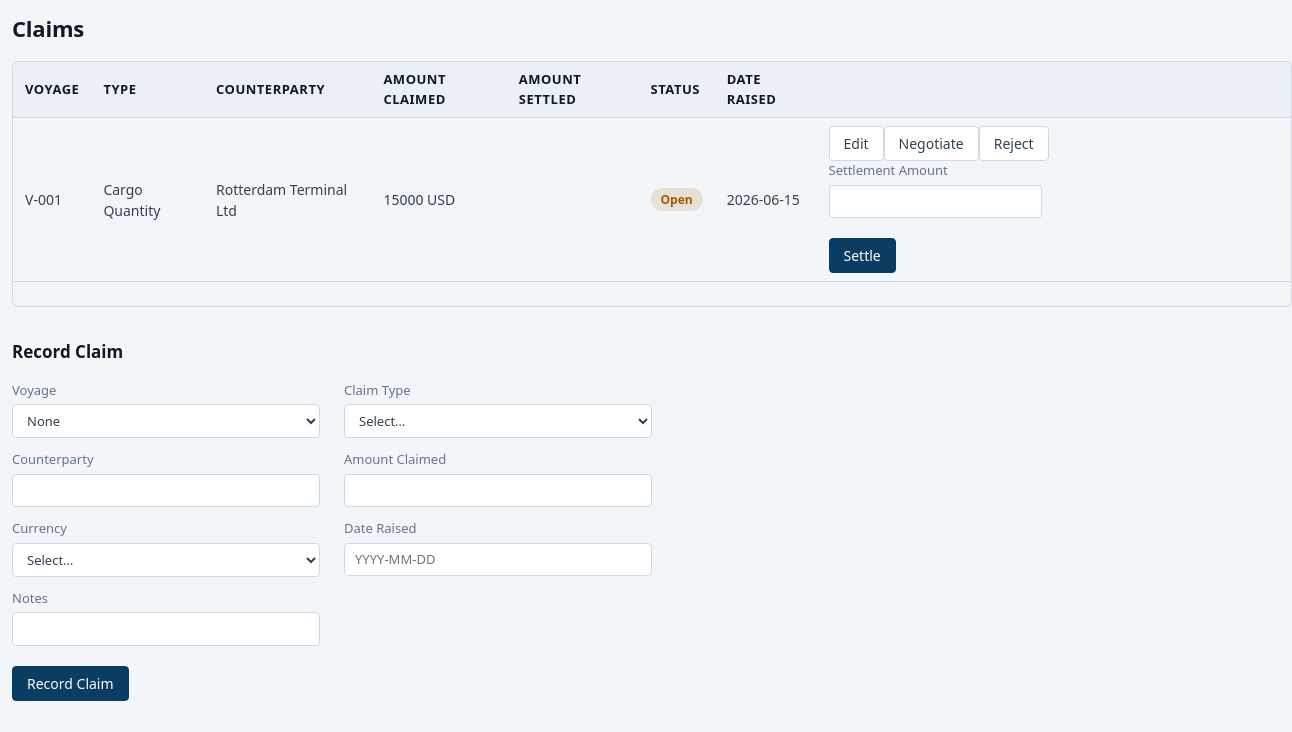
ClaimsPage › lets the operator settle a claim with a settled amount
The width and height of the screenshot is (1292, 732).
Expected: the text "Rotterdam Terminal Ltd" is shown, top-left (204, 118), bottom-right (371, 282)
Step 1. Type "12000" into the number field labelled "Settlement Amount" → [935, 201], box top-left (828, 184), bottom-right (1042, 218)
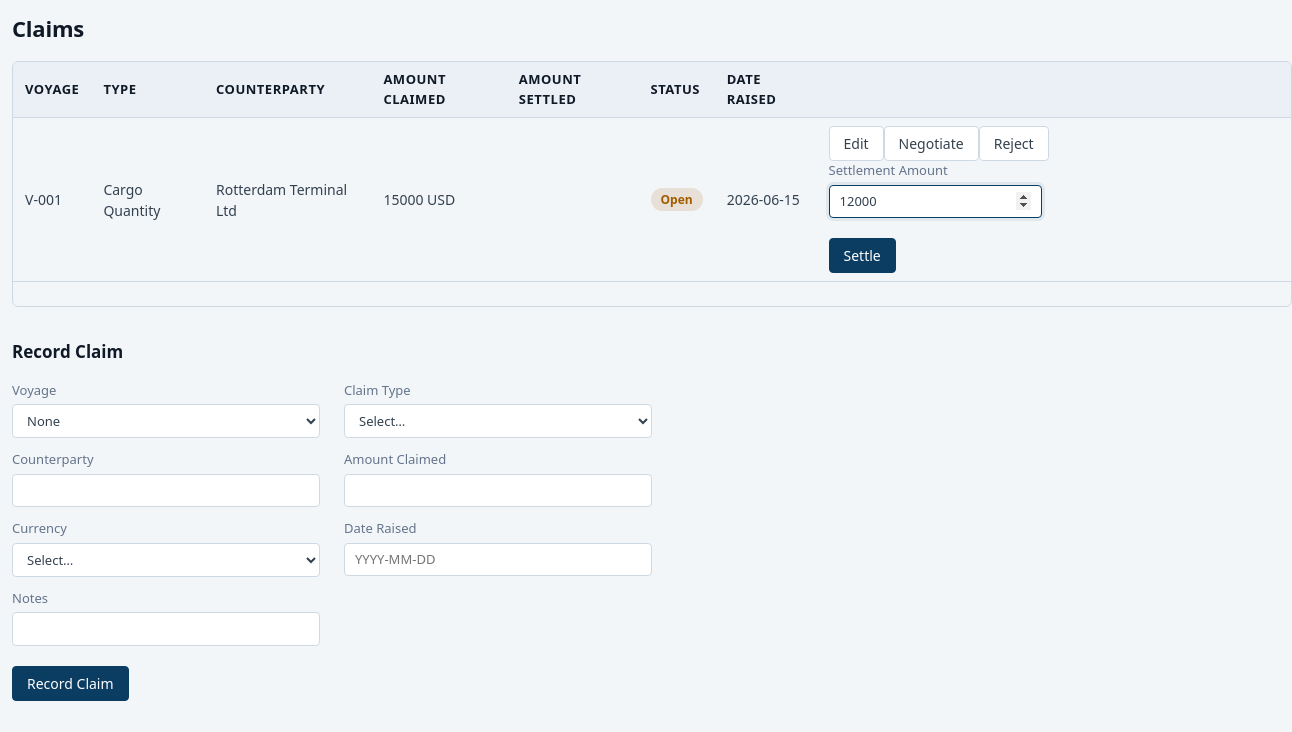
Step 2. Click the button "Settle" → [862, 256], box top-left (828, 238), bottom-right (896, 273)
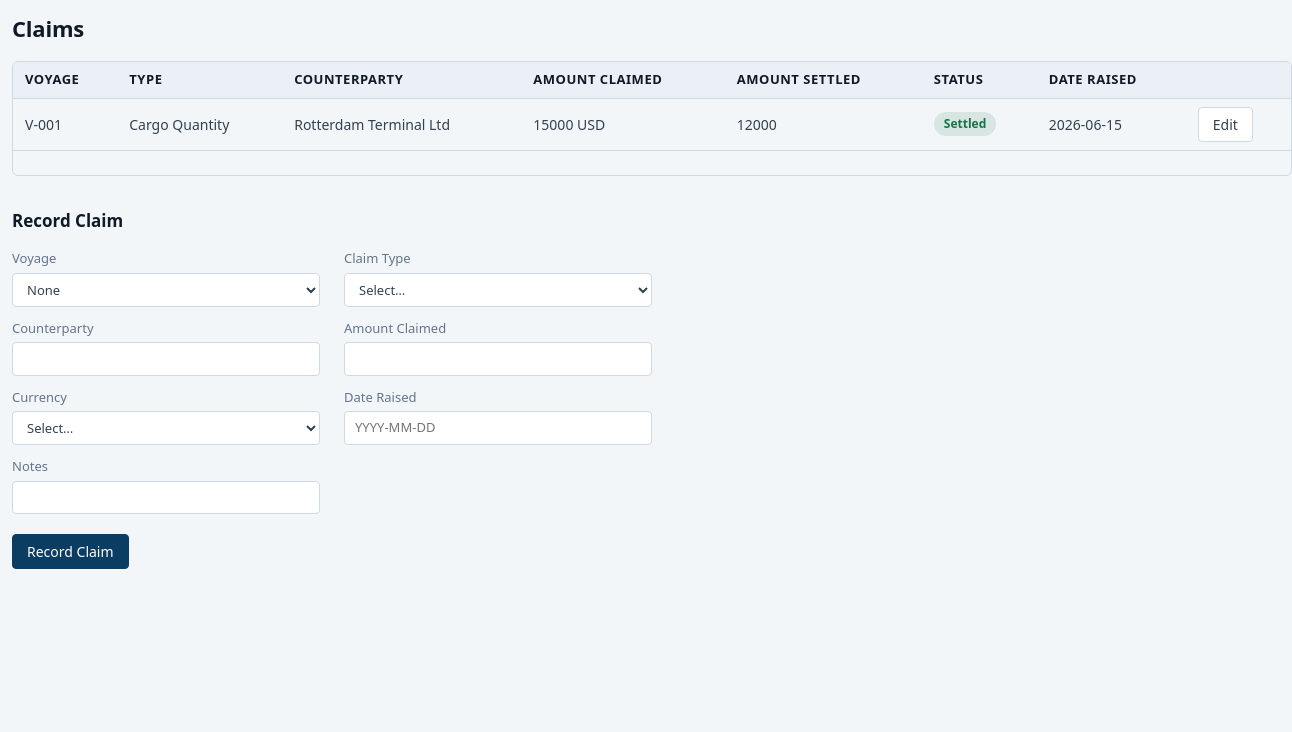
Now the text "Settled" is shown, box top-left (934, 112), bottom-right (996, 136)
